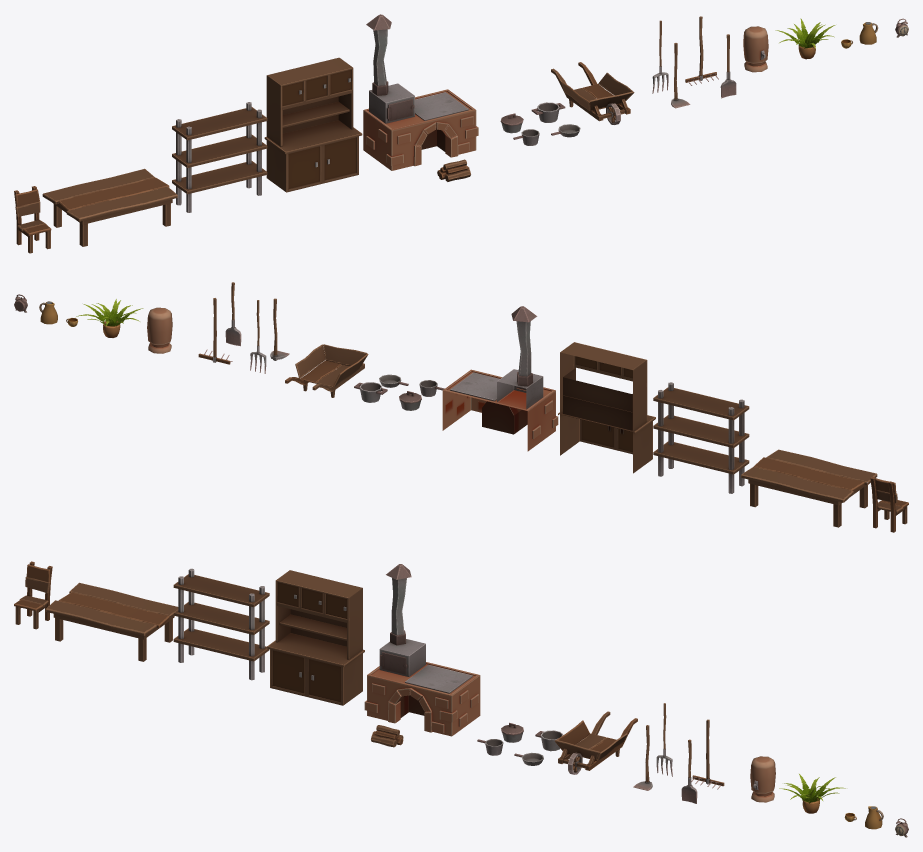
Rendered from RuralProps_All.fbx.
The picture shows the model from 3 angles, top to bottom: view 1: azimuth 30°, elevation 25°; view 2: azimuth 150°, elevation 25°; view 3: azimuth 330°, elevation 25°; orthographic projection.
Visible parts, largest first — view 1: pCube106, polySurface43, polySurface23, pCube68, pCube35, polySurface35, pCylinder28, pPlane20, pCylinder8; view 2: pCube106, polySurface43, polySurface23, pCube68, pCube35, polySurface35, pCylinder28, pPlane20; view 3: pCube106, polySurface43, polySurface23, pCube68, pCube35, polySurface35, pCylinder28, pPlane20.
Boxes of the visible parts, x1,y1,x2,y2 form: pCube106: [264, 57, 362, 192]; polySurface43: [363, 14, 478, 170]; polySurface23: [172, 102, 267, 212]; pCube68: [42, 168, 177, 246]; pCube35: [551, 62, 634, 124]; polySurface35: [14, 186, 51, 253]; pCylinder28: [743, 26, 768, 72]; pPlane20: [775, 18, 835, 59]; pCylinder8: [437, 159, 470, 181]; pCube106: [558, 342, 655, 473]; polySurface43: [442, 306, 558, 451]; polySurface23: [653, 382, 749, 493]; pCube68: [741, 449, 877, 527]; pCube35: [285, 344, 368, 397]; polySurface35: [870, 477, 908, 532]; pCylinder28: [147, 307, 172, 353]; pPlane20: [76, 299, 143, 337]; pCube106: [267, 570, 364, 705]; polySurface43: [364, 564, 480, 736]; polySurface23: [173, 568, 269, 680]; pCube68: [45, 582, 178, 661]; pCube35: [555, 711, 637, 774]; polySurface35: [14, 561, 52, 629]; pCylinder28: [750, 756, 775, 802]; pPlane20: [779, 774, 845, 813].
Size of the model in its own units: 53.71 by 7.95 by 7.04.
Materials: 2 (2 with a texture image).
